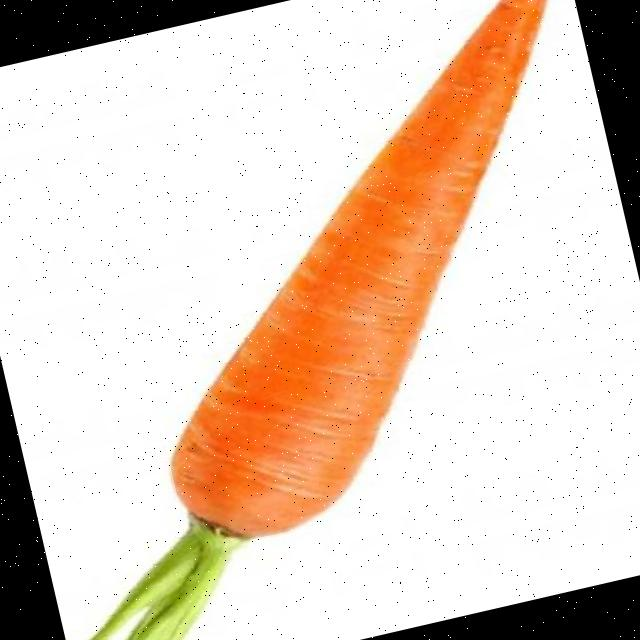carrot: (86, 0, 545, 640)
